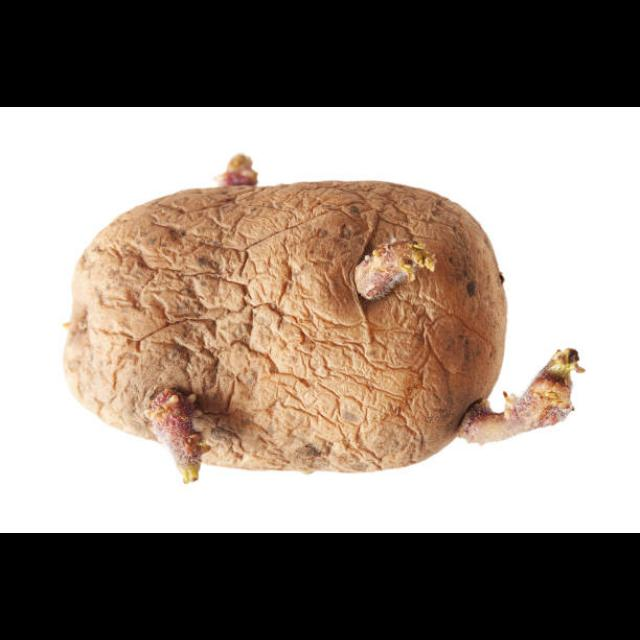Sprouted potato: (44, 130, 584, 500)
